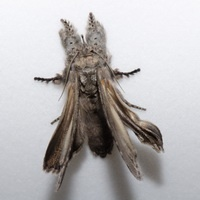insect: (35, 13, 163, 189)
